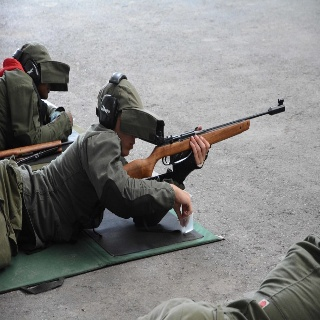rifle: (118, 97, 286, 188)
